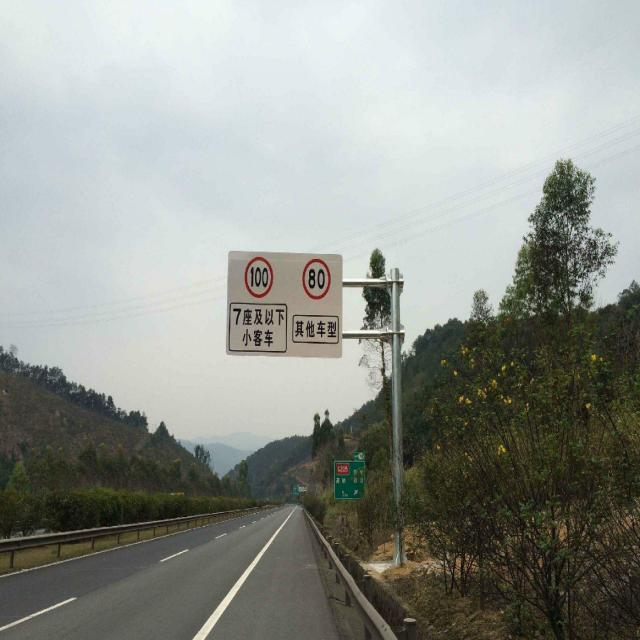speed limit 100: (244, 256, 273, 300)
speed limit 80: (303, 257, 332, 299)
